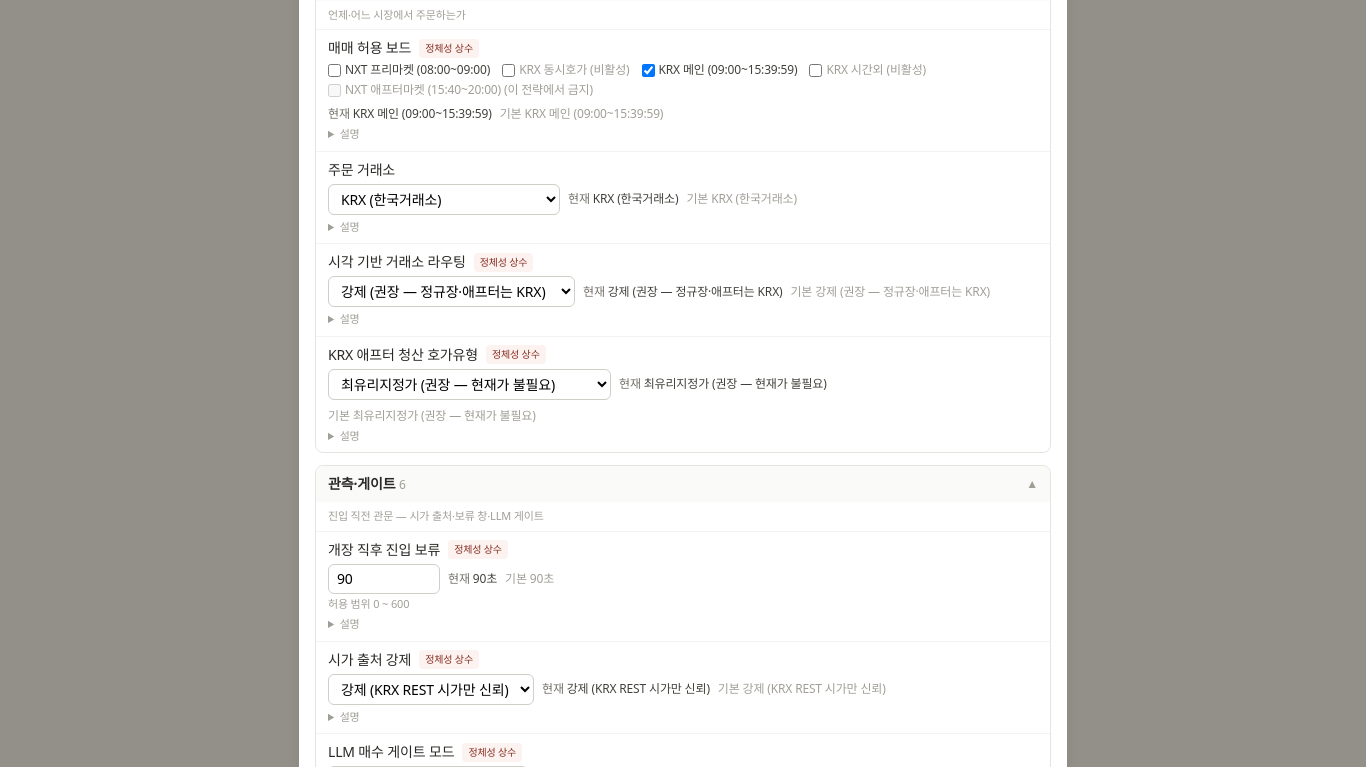
it: cycle290 — 장중 킬스위치 두 키가 편집기에 노출된다 (등재 전엔 PUT 이 422 였다) › 값을 기본값과 다르게 바꾸면 정체성 2단계 확인 체크박스가 나타난다
The width and height of the screenshot is (1366, 767).
(page scrolled)
Select "지정가 5호가 아래 (⚠️ 현재가 있는 종목만)" in the dropdown with test id "strategy-params-select-after-market-exit-division" at [470, 384], box [328,368,611,400]
(page scrolled)
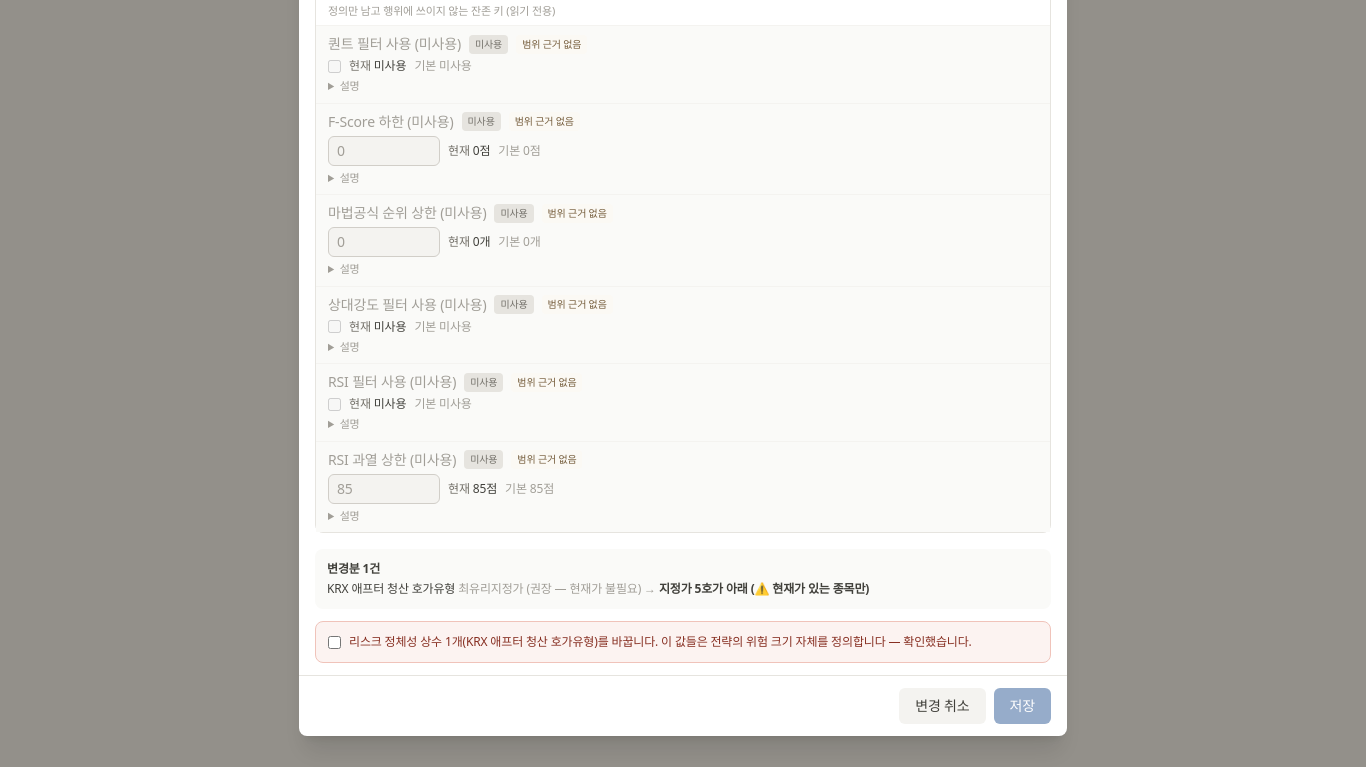
Check: the checkbox with test id "strategy-params-identity-ack" is shown, box [328,636,341,649]
Check: the button with test id "strategy-params-save" is disabled, box [994,688,1051,724]
